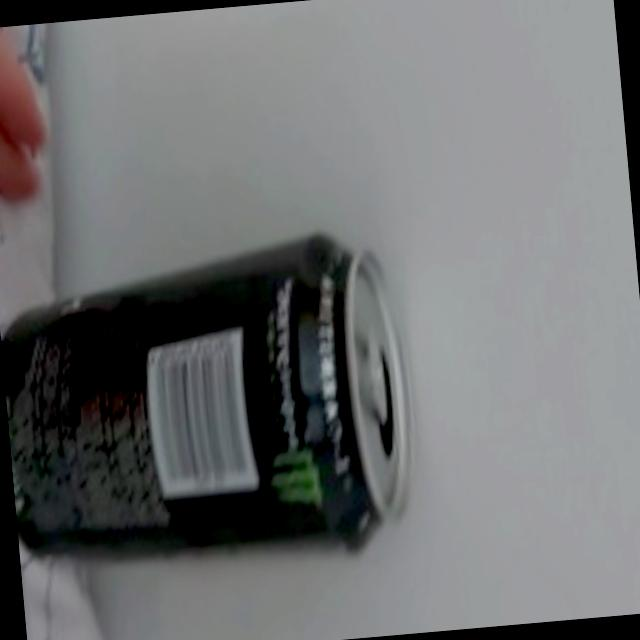Metal: (0, 219, 430, 582)
